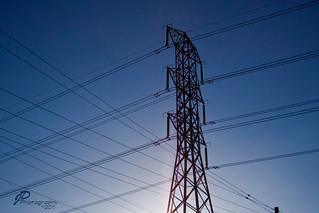power_tower: (150, 26, 222, 213)
